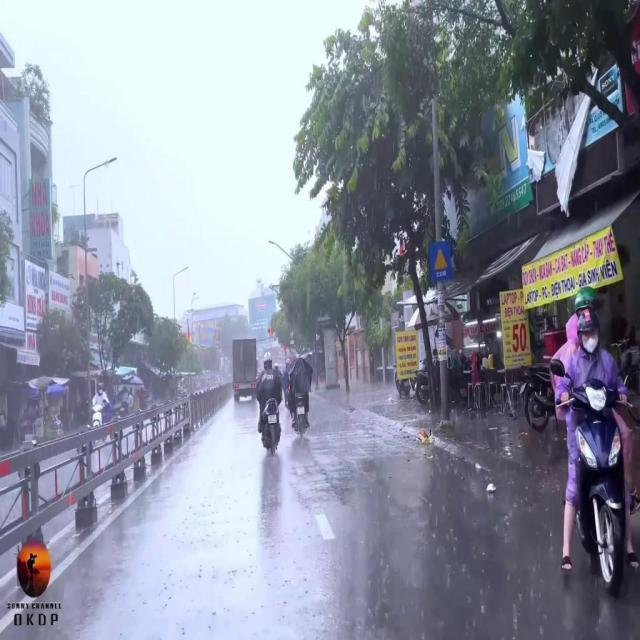442-cho: (428, 240, 452, 284)
